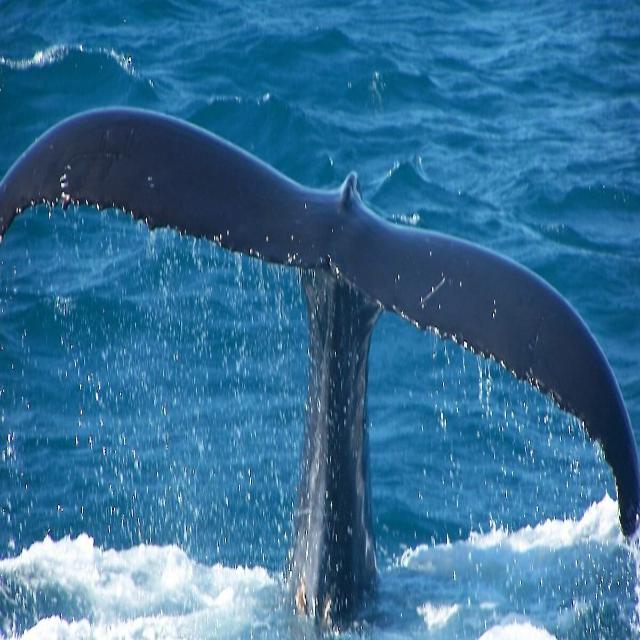whale: (0, 108, 639, 629)
